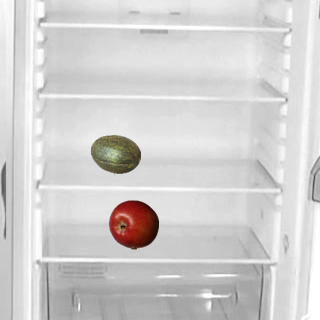Apple Braeburn: (108, 199, 158, 249)
Melon Piel de Sapo: (90, 129, 140, 179)
